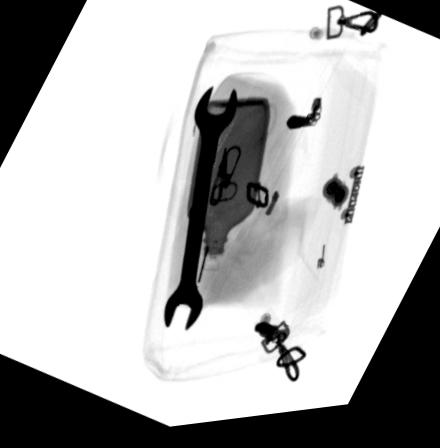Wrench: (160, 87, 240, 340)
